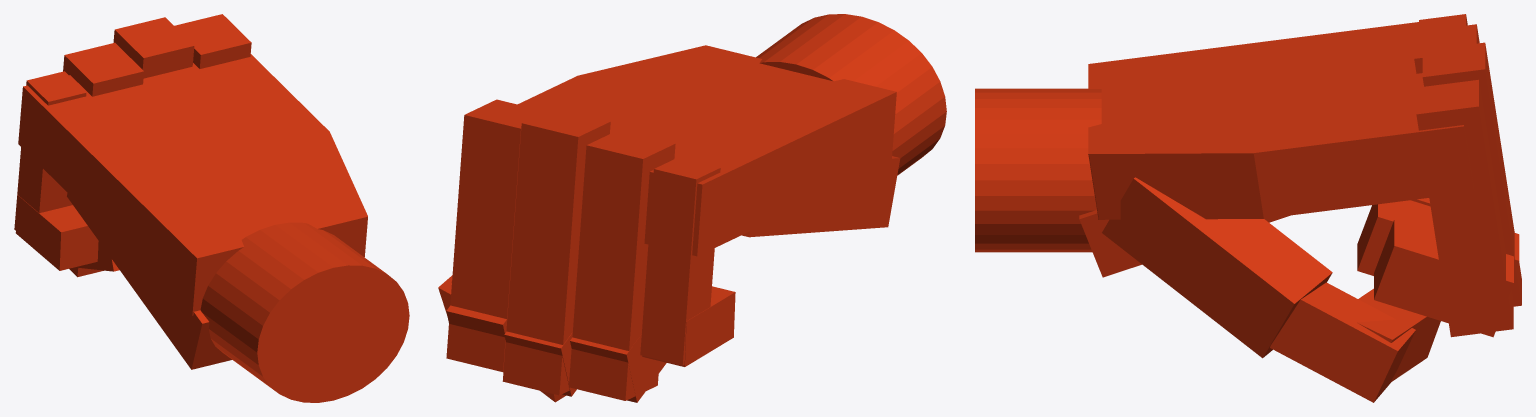
The model's file is 拳（左手・色つき）.fbx.
The picture shows the model from 3 angles, left to right: view 1: azimuth 30°, elevation 25°; view 2: azimuth 150°, elevation 25°; view 3: azimuth 270°, elevation 25°; orthographic projection. The views are drawn at different scales.
Visible parts, largest first — view 1: 円柱; view 2: 円柱; view 3: 円柱.
Part boxes in pixels (x1=…): 円柱: x1=14, y1=14, x2=409, y2=402; 円柱: x1=438, y1=14, x2=946, y2=402; 円柱: x1=975, y1=14, x2=1521, y2=402.
Size of the model in its own units: 10.54 by 10.13 by 17.29.
